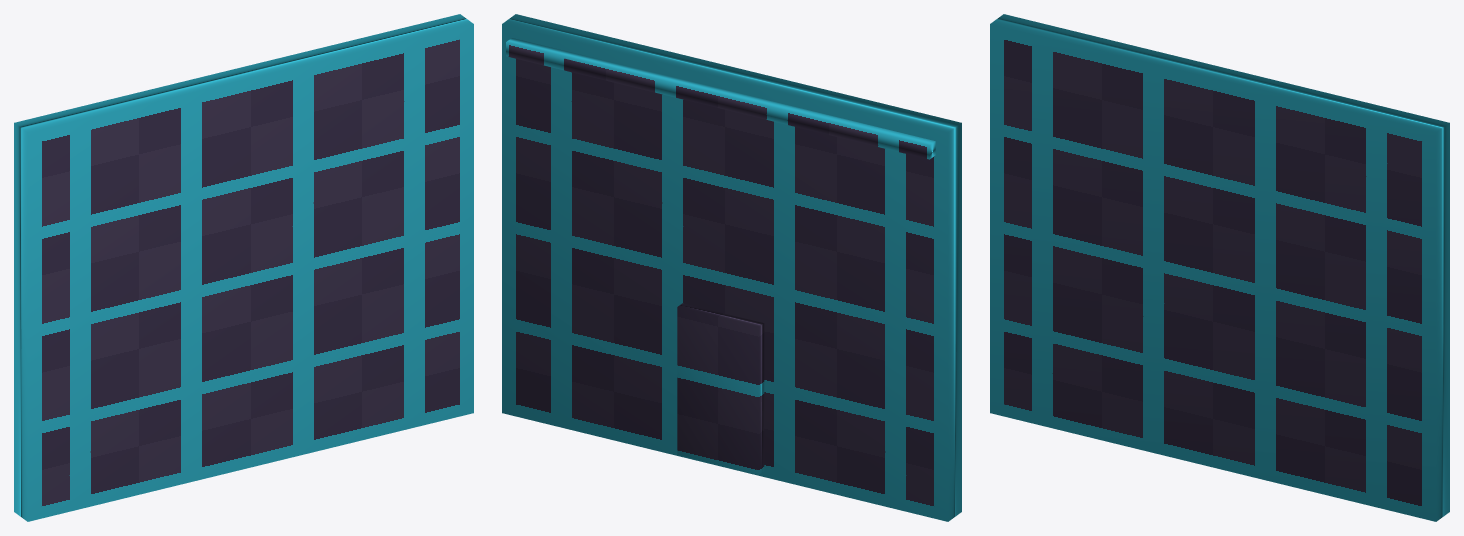
Rendered from SM_Env_CairoFacade_C_LOD2.obj.
The picture shows the model from 3 angles, left to right: view 1: azimuth 30°, elevation 25°; view 2: azimuth 150°, elevation 25°; view 3: azimuth 330°, elevation 25°; orthographic projection.
Parts seen in each view (by area): view 1: SM_Env_CairoFacade_C_LOD2; view 2: SM_Env_CairoFacade_C_LOD2; view 3: SM_Env_CairoFacade_C_LOD2.
Part boxes in pixels (bbox=[...]): SM_Env_CairoFacade_C_LOD2: bbox=[14, 14, 473, 521]; SM_Env_CairoFacade_C_LOD2: bbox=[502, 14, 961, 521]; SM_Env_CairoFacade_C_LOD2: bbox=[990, 14, 1449, 521].
Size of the model in its own units: 6 by 5 by 0.49.
1 material, 1 textured.
